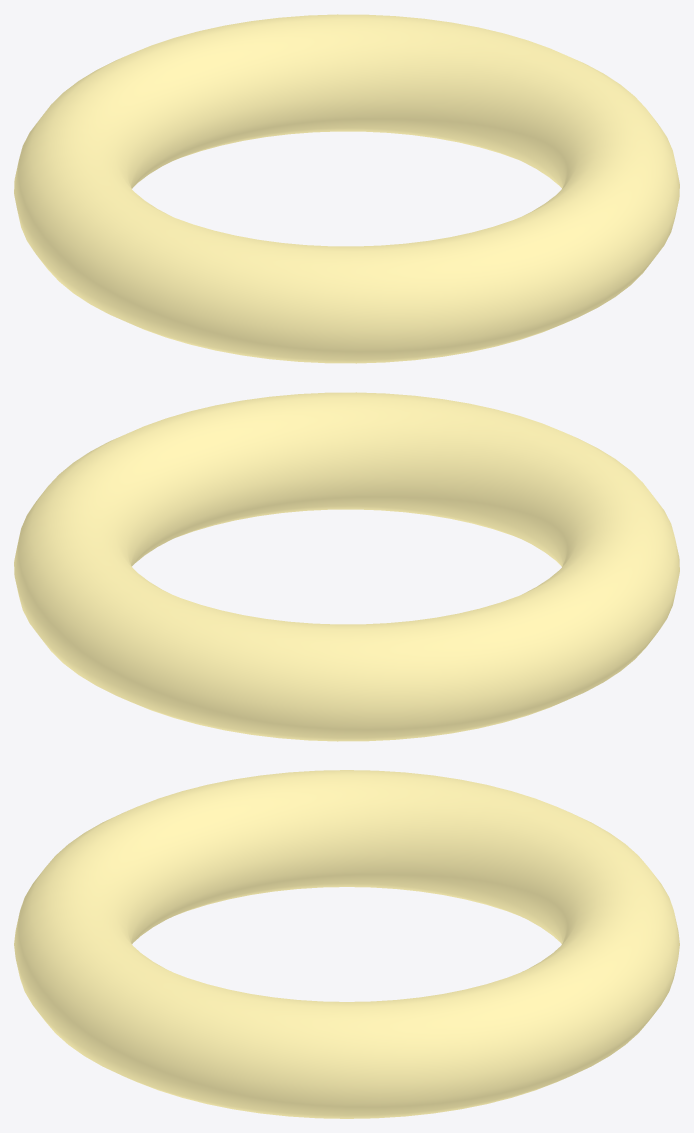
File: halo.glb
The picture shows the model from 3 angles, top to bottom: view 1: azimuth 30°, elevation 25°; view 2: azimuth 150°, elevation 25°; view 3: azimuth 270°, elevation 25°; orthographic projection.
Bounding box in the file's own units: 18.2 × 3.2 × 18.2.
